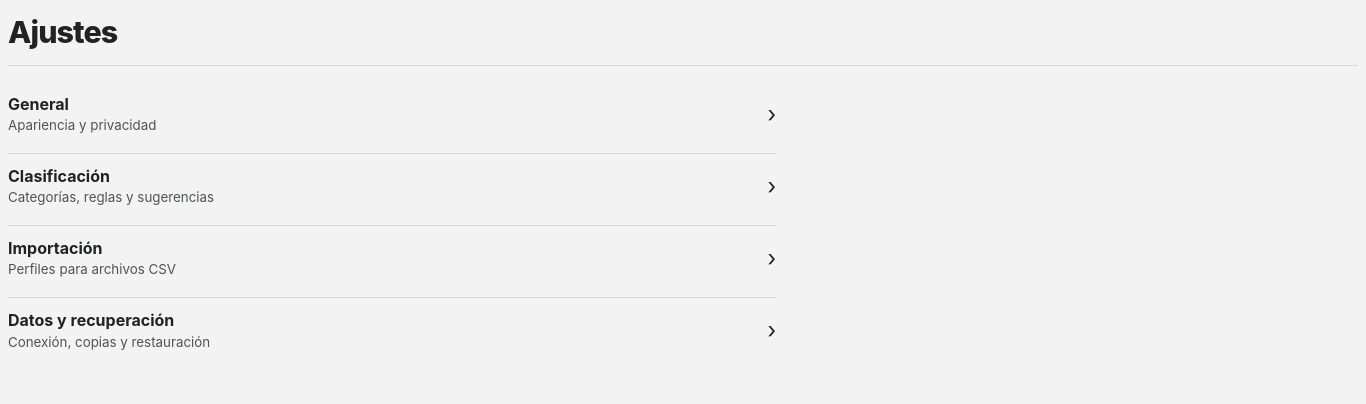
SettingsView › muestra cuatro destinos compactos y carga perfiles solo al entrar en Importación
Expected: the heading "Ajustes" is shown, [8,14,117,50]
Expected: the button "General Apariencia y privacidad ›" is shown, [8,82,776,145]
What coordinates should you click on to do the following:
click the button "Importación Perfiles para archivos CSV ›"
I would click on:
 (55, 248)
Its box is [8,225,776,289].
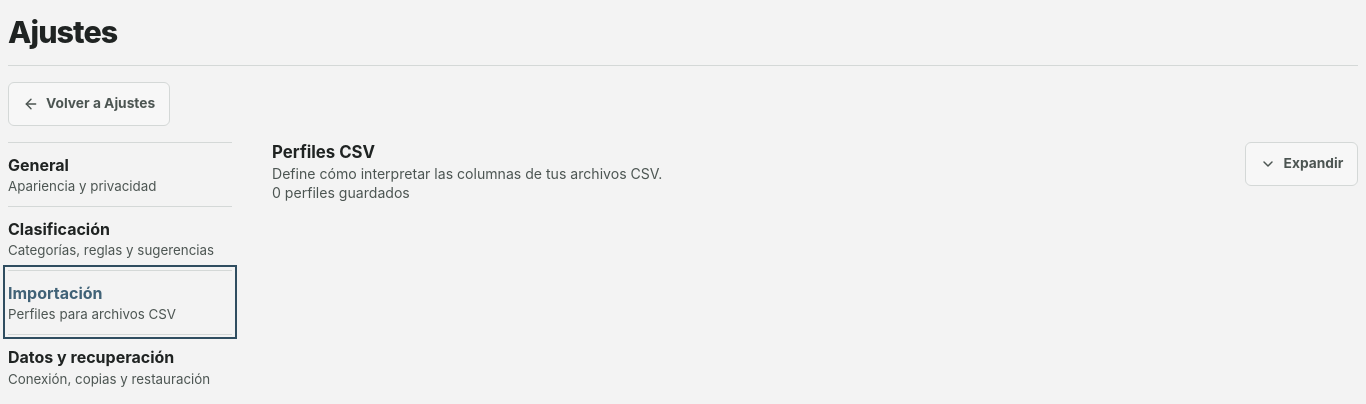
Now the button with aria-label "perfiles csv" is shown, box [1246,142,1358,186]
